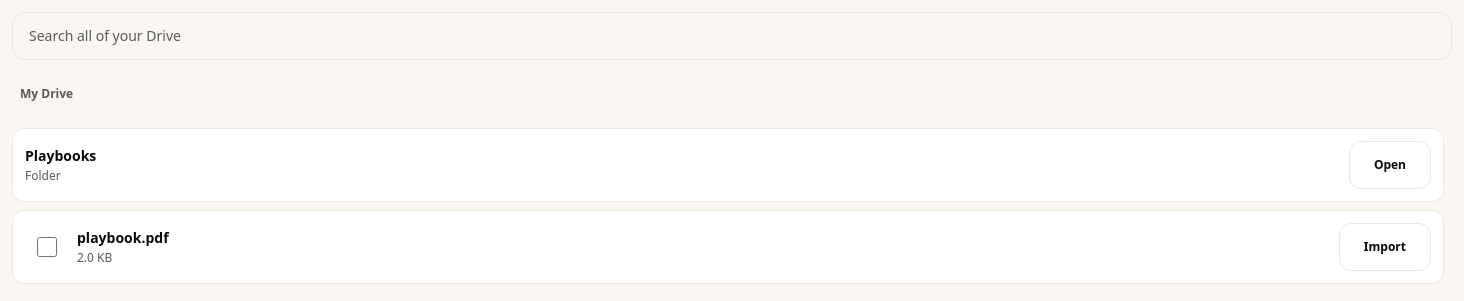
Scenario: GoogleDrivePicker › opens a folder and returns to My Drive via the breadcrumb
What coordinates should you click on to do the following:
click the button "Open"
I would click on:
 (1390, 165)
Its box is [1349,141,1431,189].
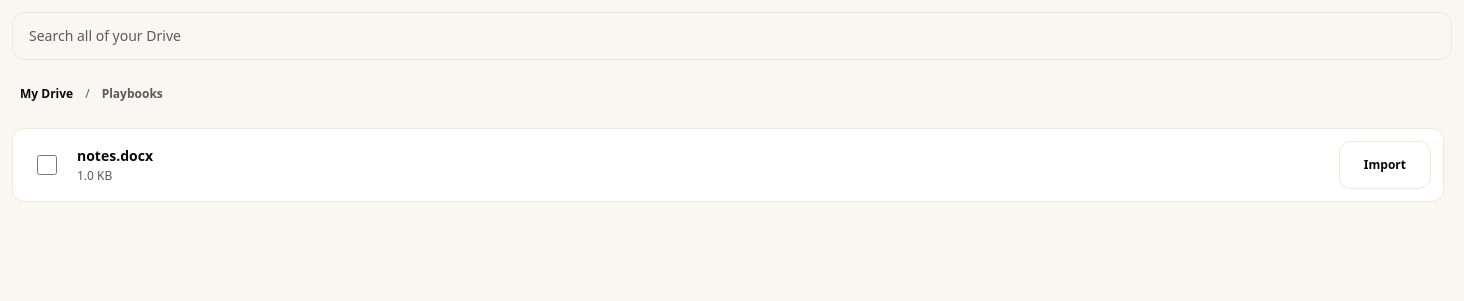
Expected: the button "Playbooks" is shown, [94,72,171,116]
Expected: the text "notes.docx" is shown, [77,146,153,165]
What coordinates should you click on to do the following:
click the button "My Drive"
I would click on:
 (47, 94)
Its box is [12,72,81,116].
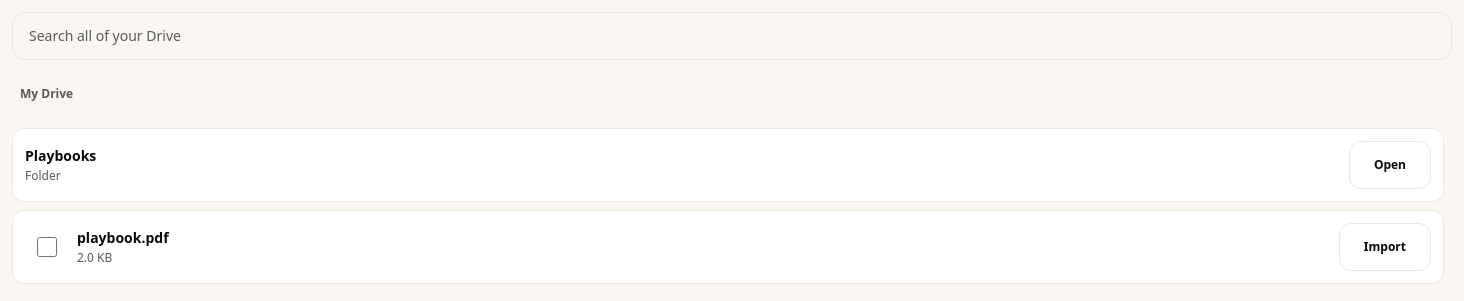
Expected: the text "playbook.pdf" is shown, [77,228,169,247]
